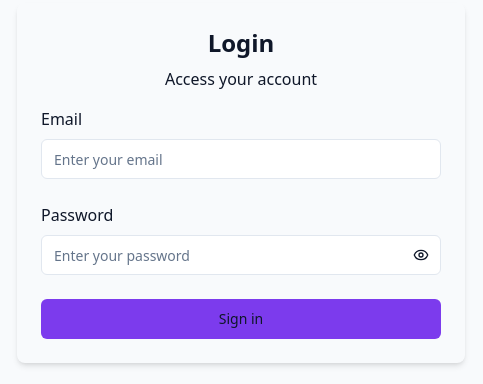
LoginPage › shows loading state during login
Type "test@example.com" into the field labelled "Email" at (241, 159), box [41,139,441,179]
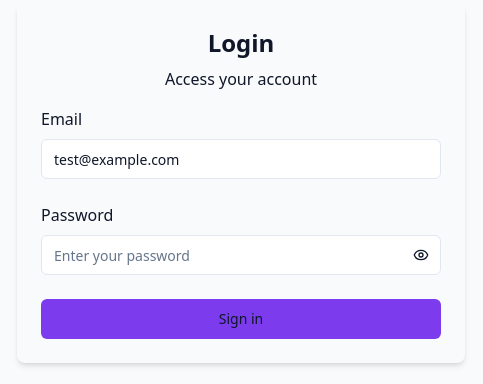
Type "password123" into the password field labelled "Password" at (241, 255), box [41,235,441,275]
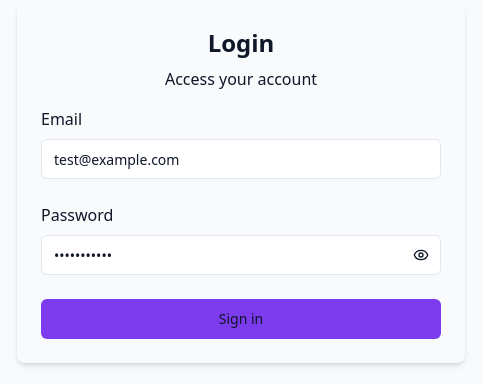
Click the button "Sign in" at (241, 319), box [41,299,441,339]
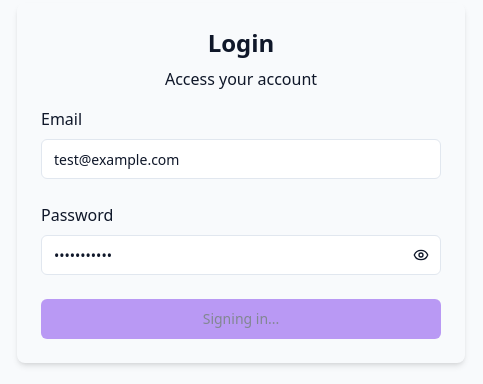
Now the button named "sign in" is disabled, box [41,299,441,339]
